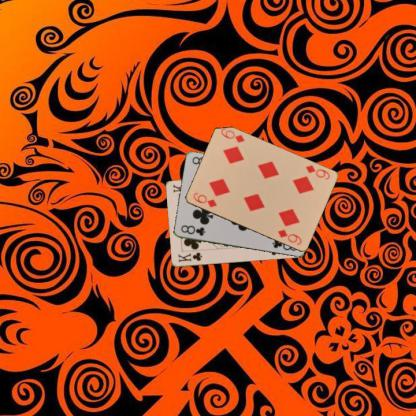6d: (190, 190, 218, 209), (303, 162, 330, 181)
8c: (178, 223, 206, 238)
Kc: (176, 249, 203, 264)
